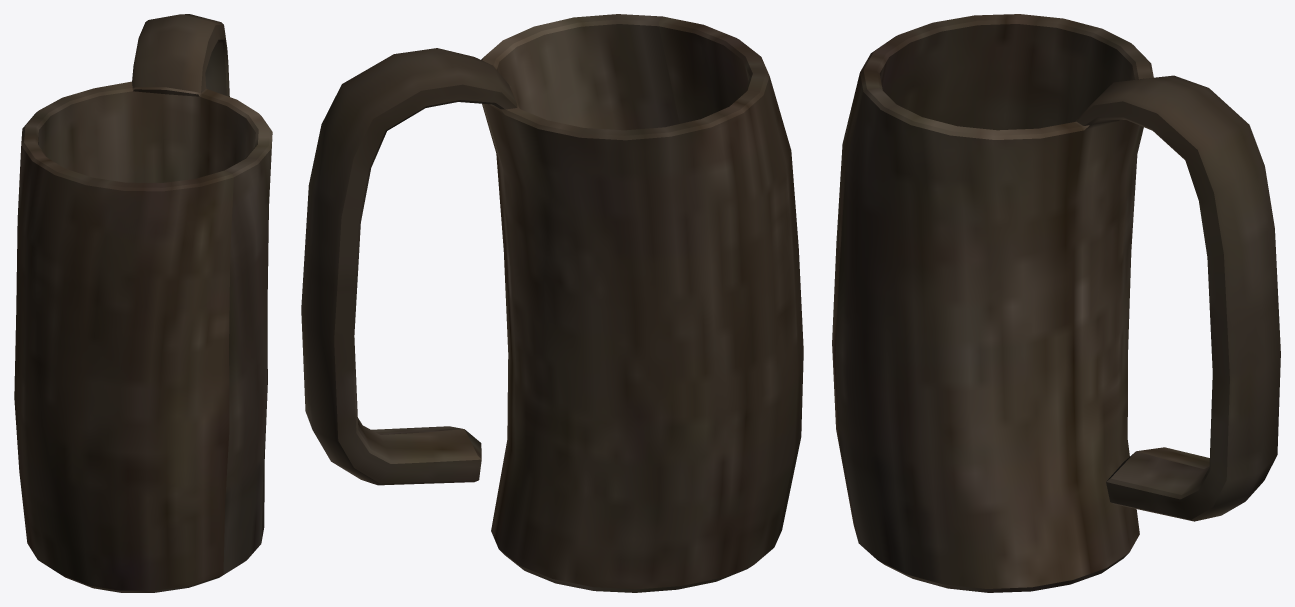
The model's file is val_horn.glb.
3 views of the same model, side by side, from view 1: azimuth 30°, elevation 25°; view 2: azimuth 150°, elevation 25°; view 3: azimuth 270°, elevation 25° (orthographic). The views are drawn at different scales.
Parts seen in each view (by area): view 1: KB3D_VAL_Mug_A_Main; view 2: KB3D_VAL_Mug_A_Main; view 3: KB3D_VAL_Mug_A_Main.
Part boxes in pixels (x1,y1,x2,y2): KB3D_VAL_Mug_A_Main: (14,14,272,592); KB3D_VAL_Mug_A_Main: (301,14,803,592); KB3D_VAL_Mug_A_Main: (832,14,1280,592).
Bounding box in the file's own units: 0.1416 × 0.1946 × 0.1538.
Materials: 1 (1 with a texture image).
